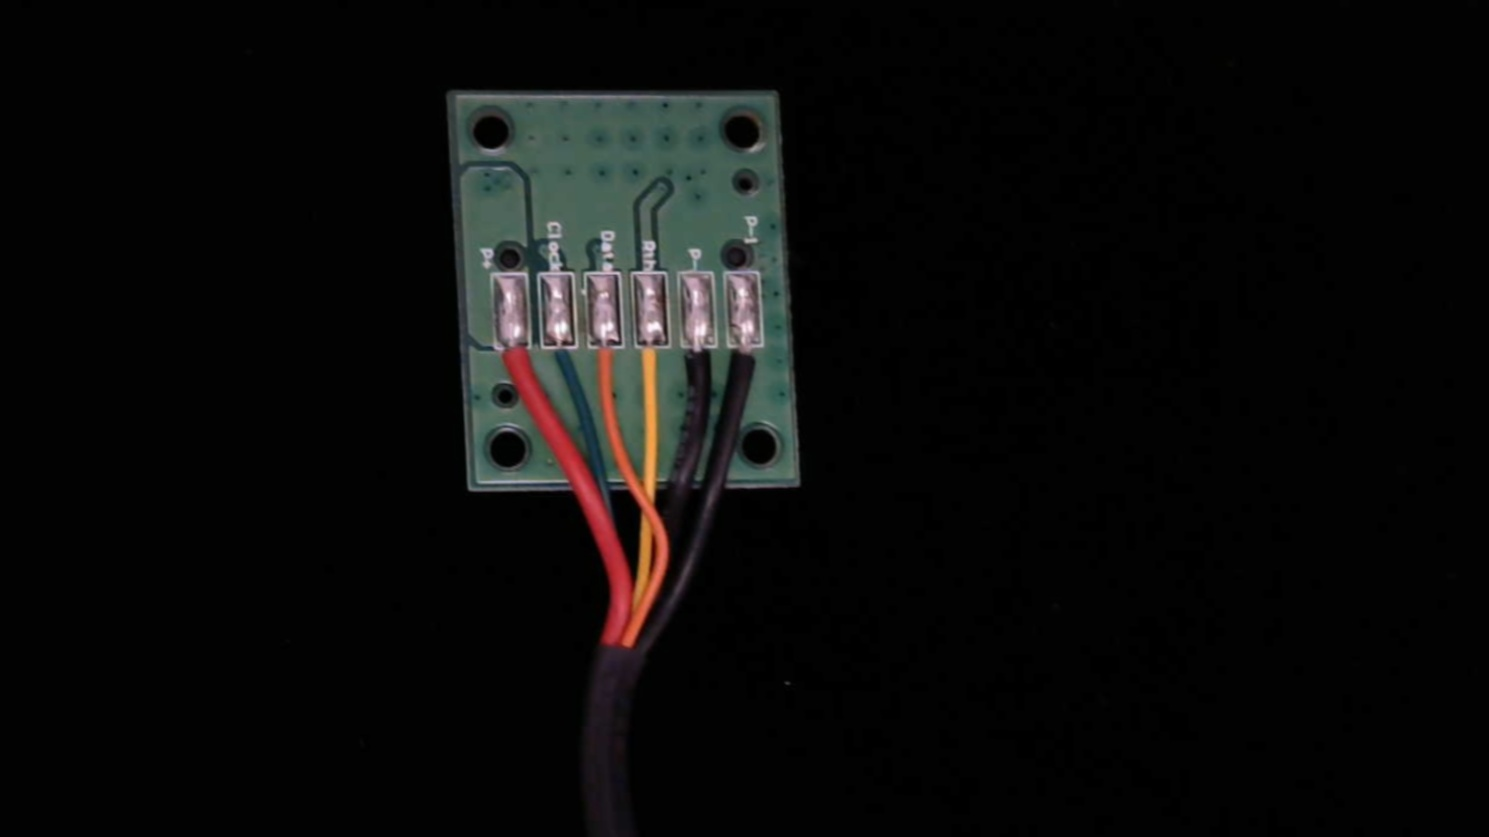Black: (675, 332, 722, 406)
Black1: (726, 329, 769, 410)
Green: (542, 326, 583, 402)
Orange: (586, 327, 628, 414)
Red: (490, 328, 534, 412)
Yellow: (633, 327, 674, 405)
